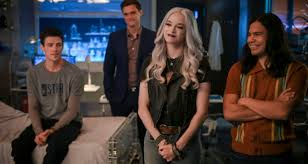Caution: (139, 6, 305, 164), (13, 1, 144, 163), (103, 1, 212, 164)
